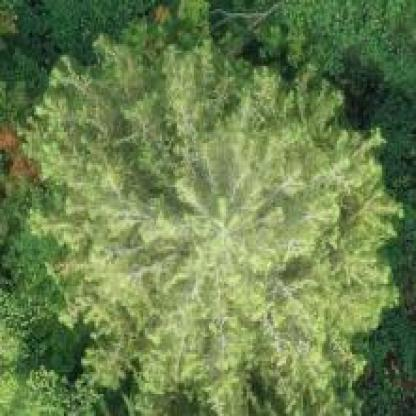Coniferous Tree: (7, 26, 408, 412)
